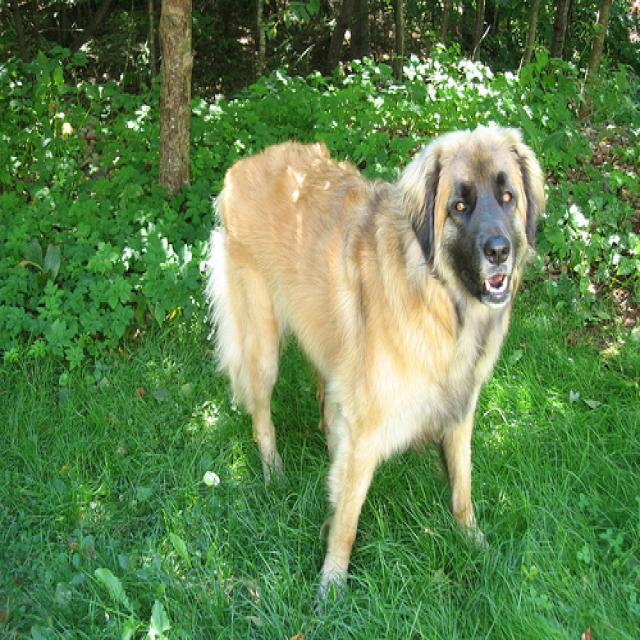dog-leonberger: (201, 114, 553, 625)
